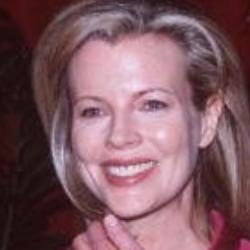face: (20, 2, 250, 213)
